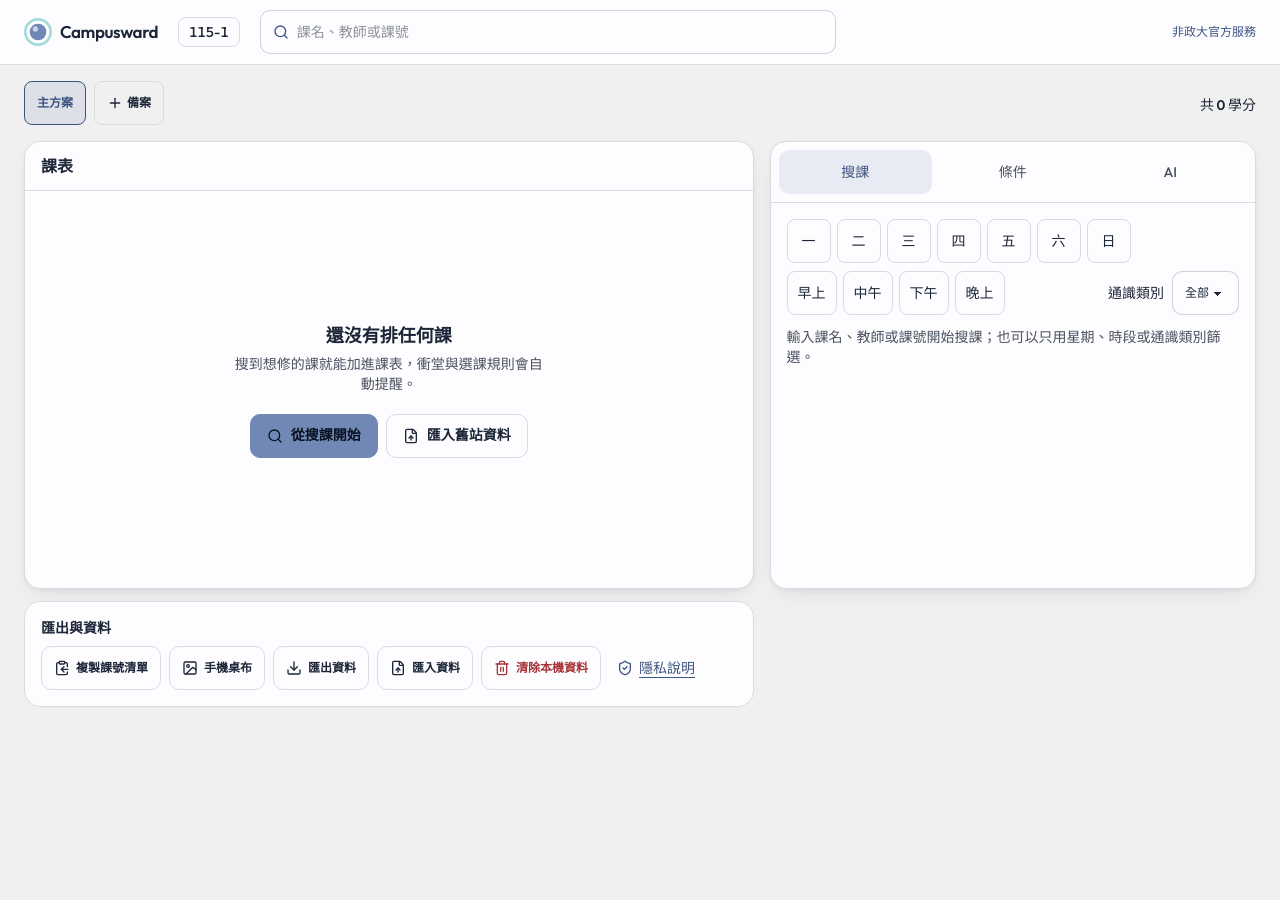
Test case: searching and adding › adds a found course to the timetable, updates credits, and can undo
This screenshot has width=1280, height=900.
expect the text "115-1" is shown: met, box [178,17,240,47]
In the search field named "搜課": (560,32) [297,11,823,53], type "合成課程"
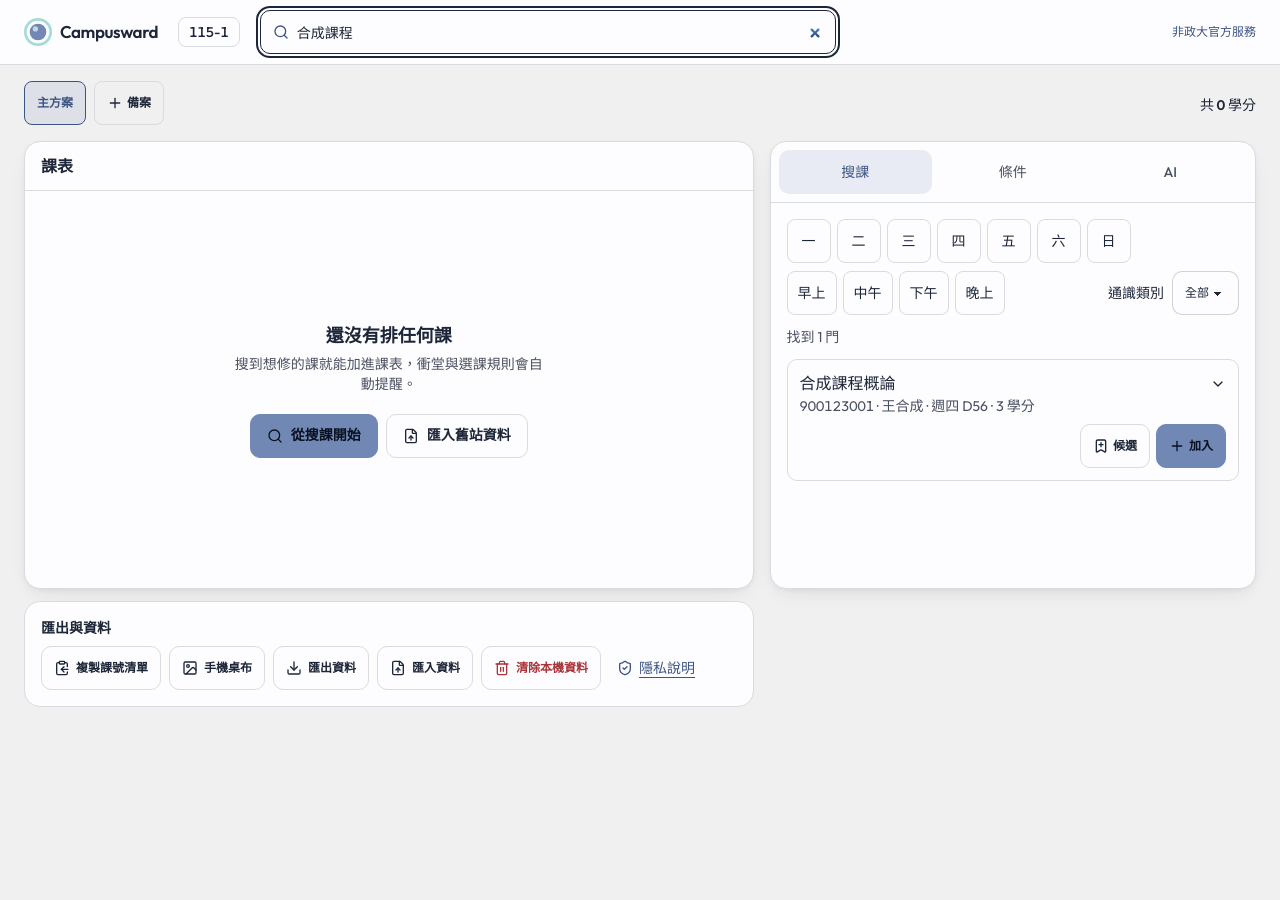
Click the button with aria-label "加入課表：合成課程概論": (1191,446) [1156,424,1226,468]
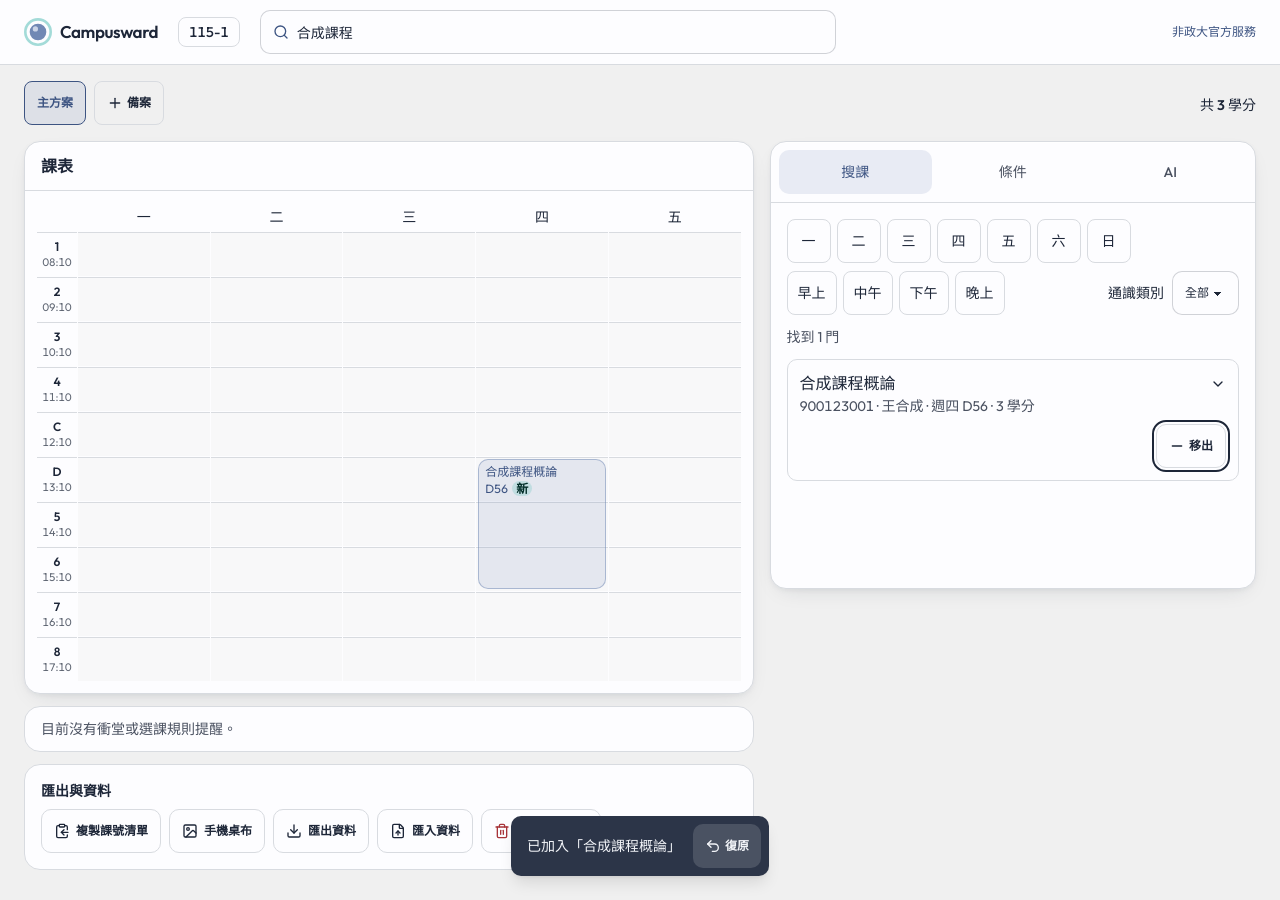
expect the text "共 3 學分" is shown: met, box [1200,95,1256,115]
expect the message named "最近的修改" shows "已加入「合成課程概論」": met, box [527,837,681,855]
Click the button "復原": (727,846) [693,824,761,868]
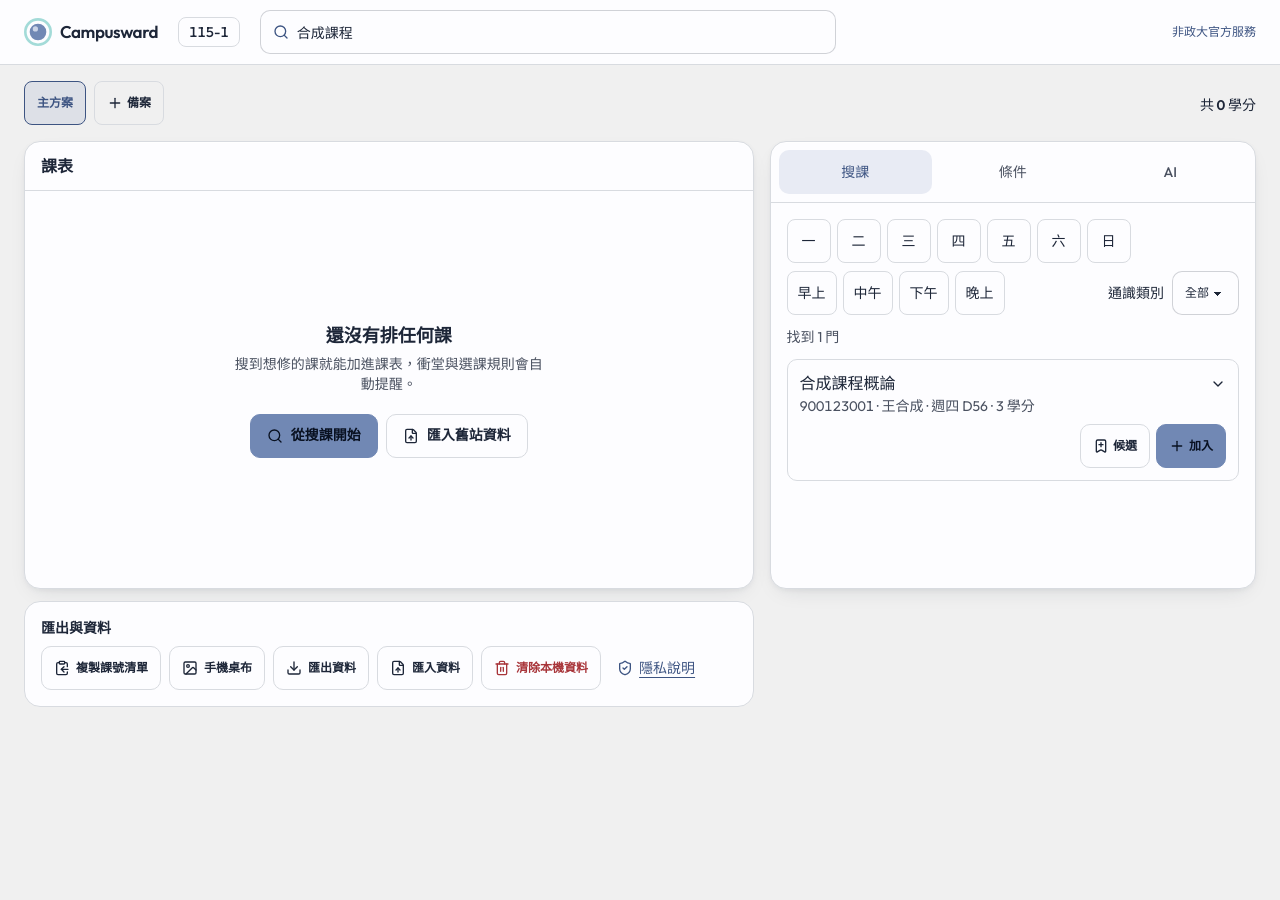
expect the text "共 0 學分" is shown: met, box [1200,95,1256,115]
